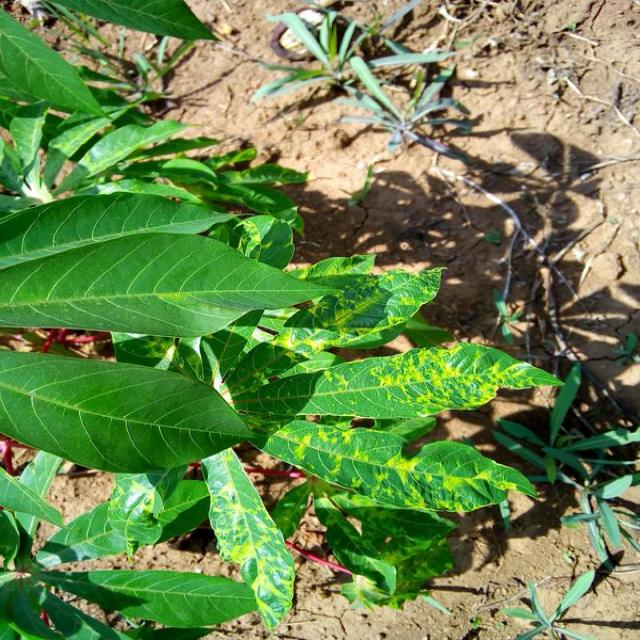cassava leaf: (2, 188, 564, 630), (2, 190, 340, 338), (1, 348, 255, 474), (228, 339, 566, 422), (202, 445, 296, 629)
